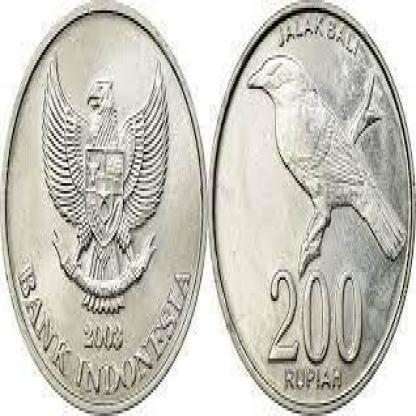coin_200_e2003: (205, 0, 416, 416), (0, 0, 207, 416)
